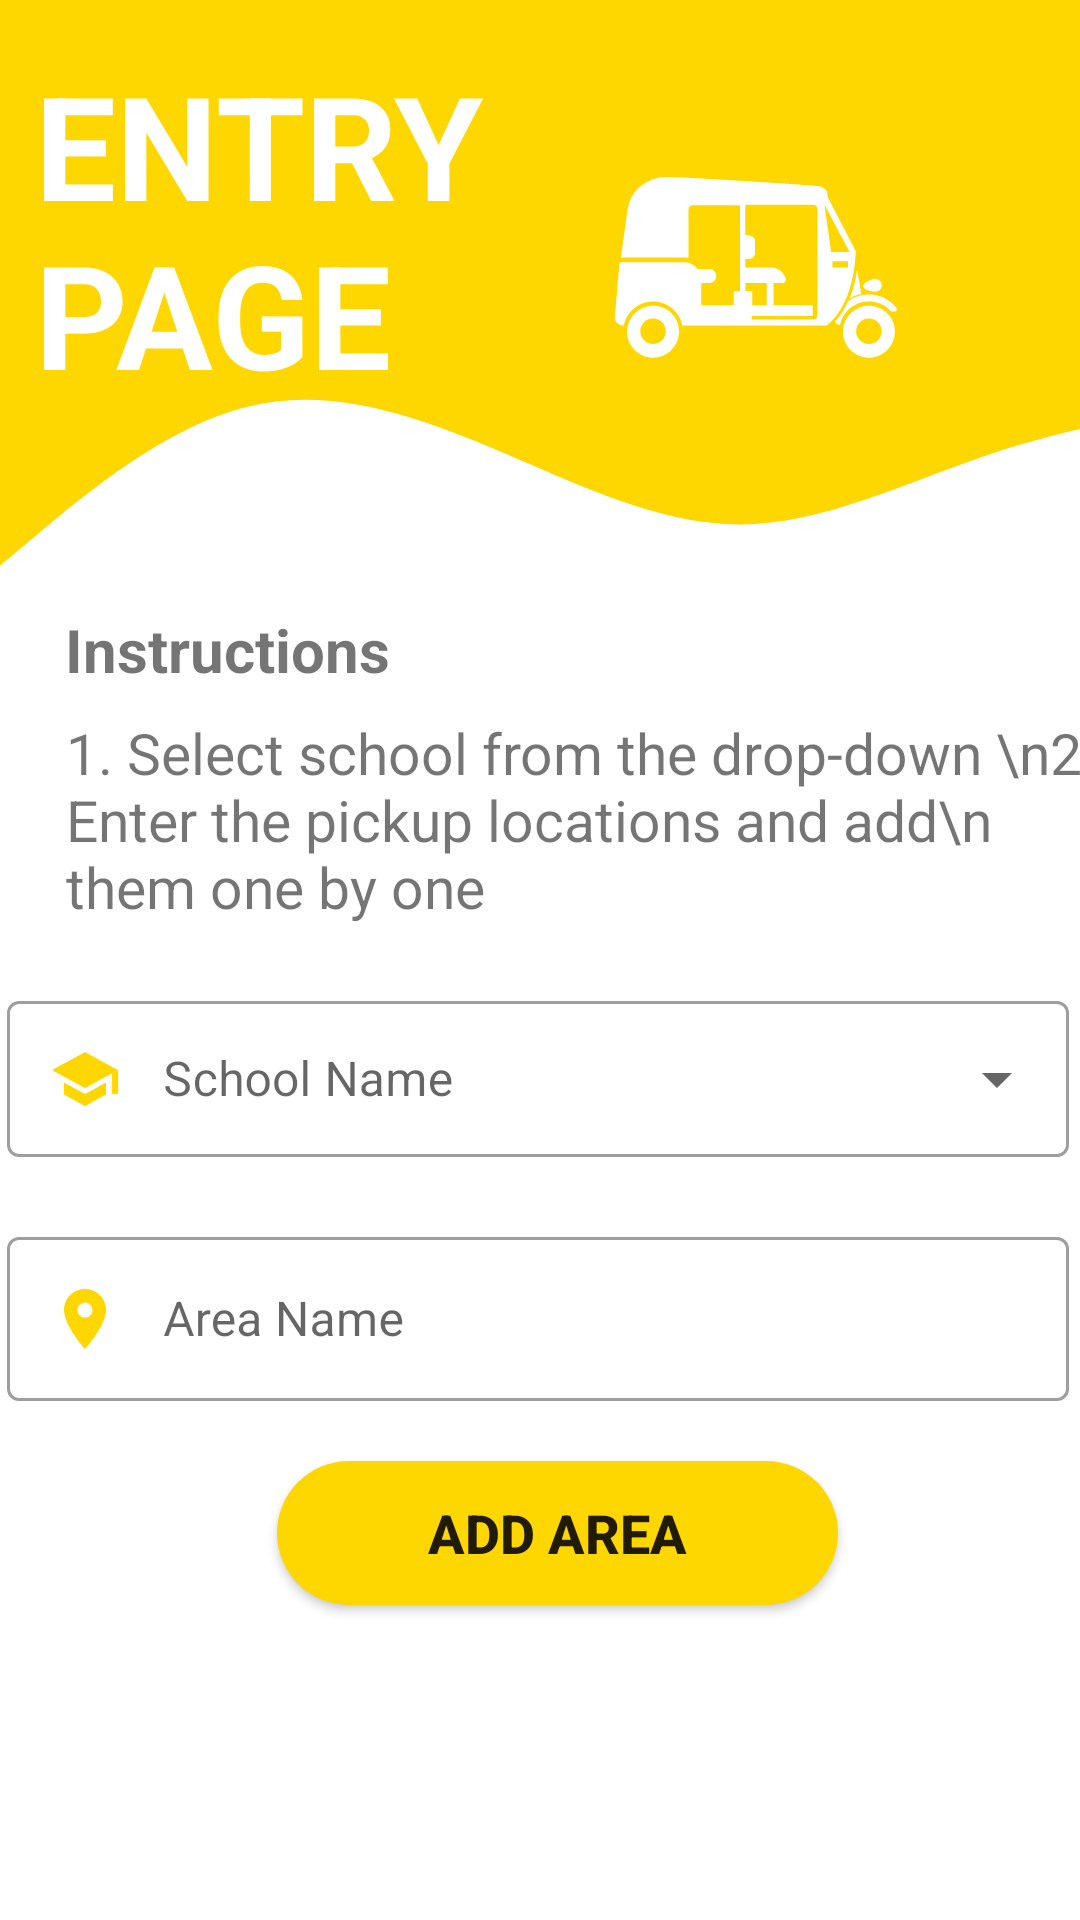

Where icons sit on this 1080×1920 app screen, as (x1,y1,x2,y2):
rikshaw: (614,177,897,358)
